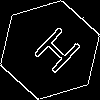H: (25, 25, 83, 83)
